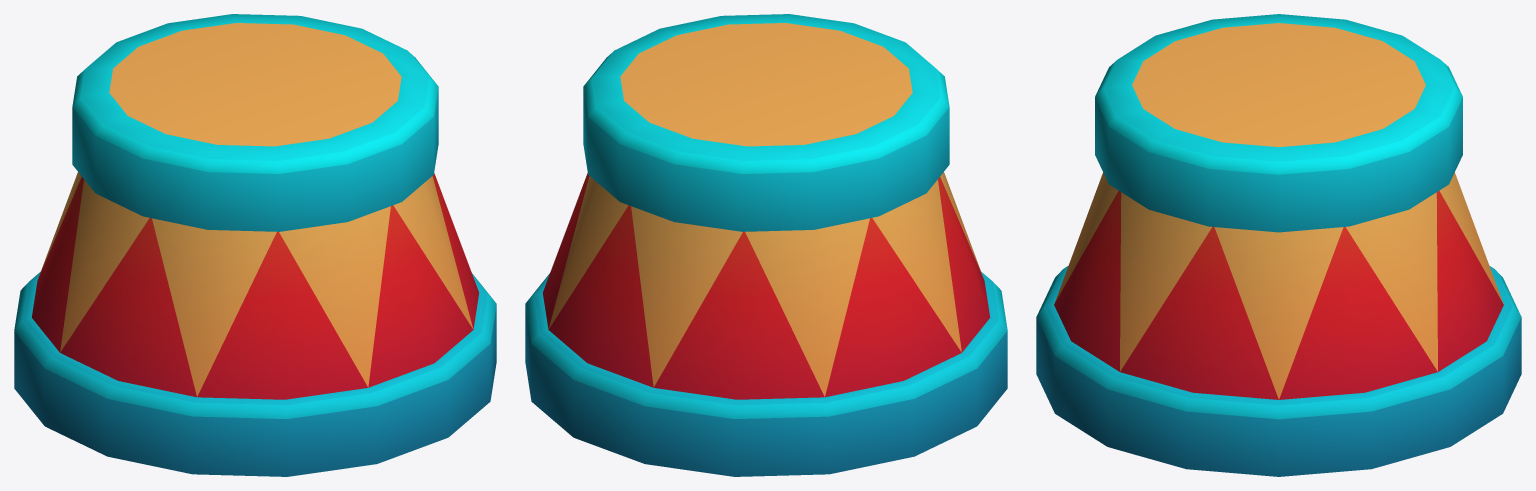
The model's file is circus_podium.obj.
3 views of the same model, side by side, from view 1: azimuth 30°, elevation 25°; view 2: azimuth 150°, elevation 25°; view 3: azimuth 270°, elevation 25° (orthographic).
Parts seen in each view (by area): view 1: circus_podium; view 2: circus_podium; view 3: circus_podium.
Boxes of the visible parts, bbox=[...] form: circus_podium: bbox=[14, 14, 496, 476]; circus_podium: bbox=[525, 14, 1007, 476]; circus_podium: bbox=[1036, 14, 1521, 476].
Bounding box in the file's own units: 1.5 × 1 × 1.5.
1 material, 1 textured.
